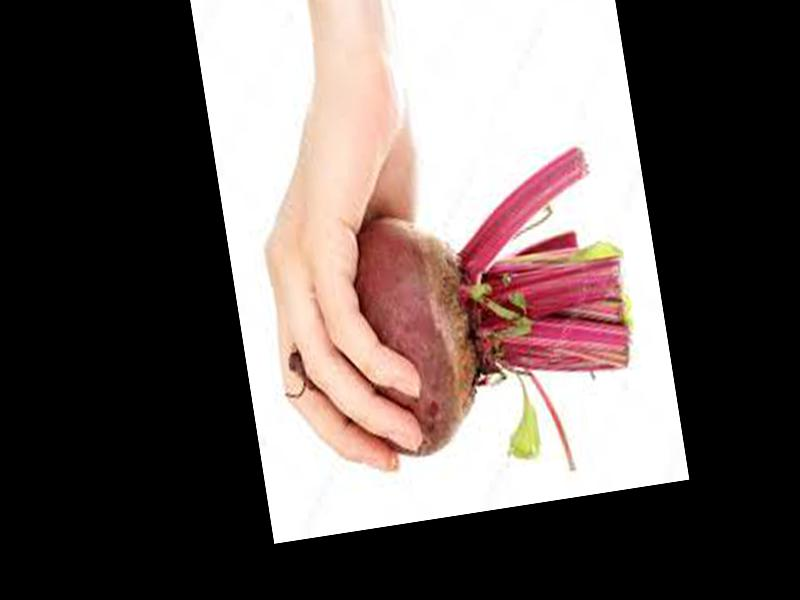Beet: (260, 143, 652, 510)
